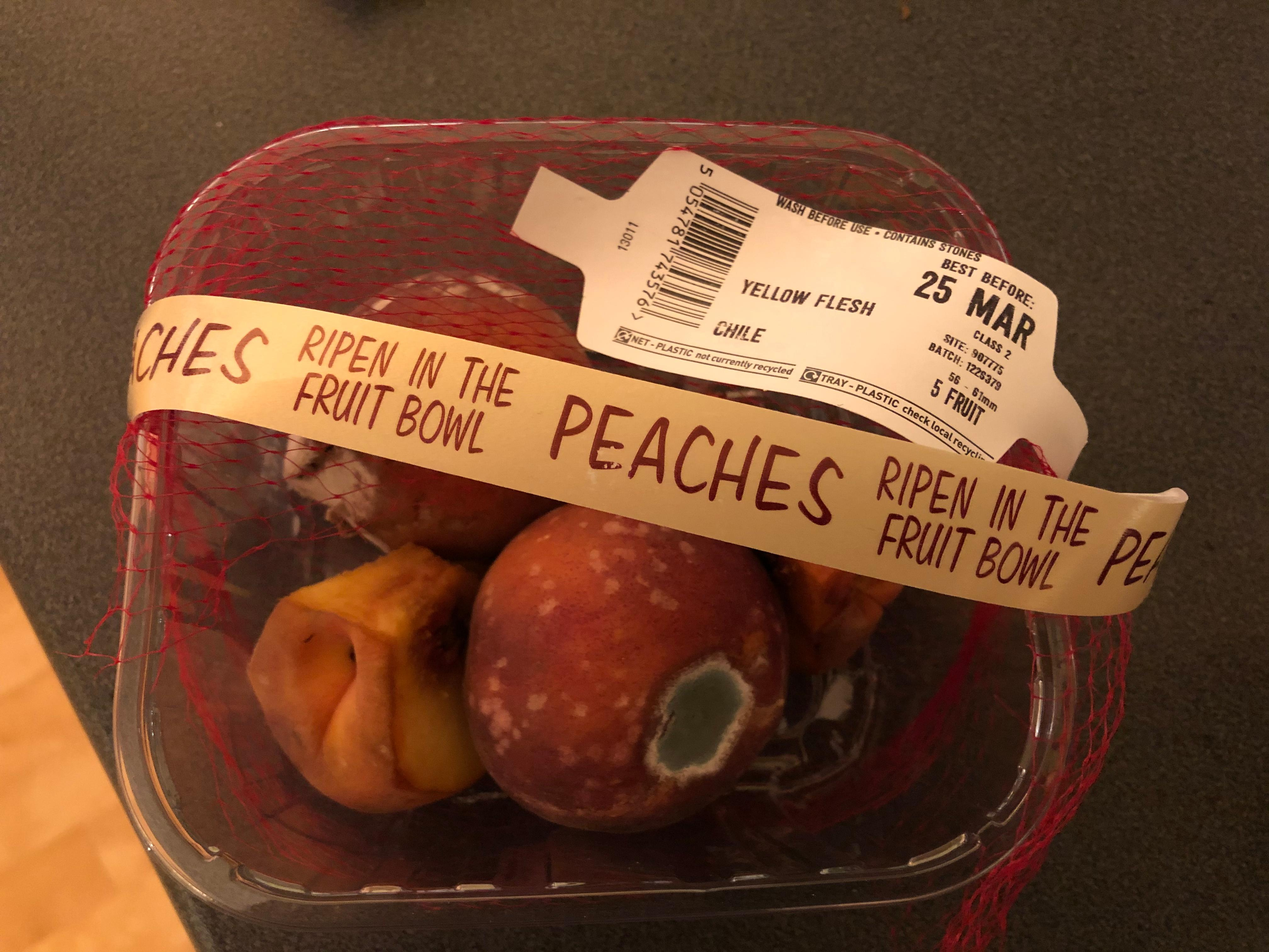Peach Ripe: (465, 504, 787, 831)
